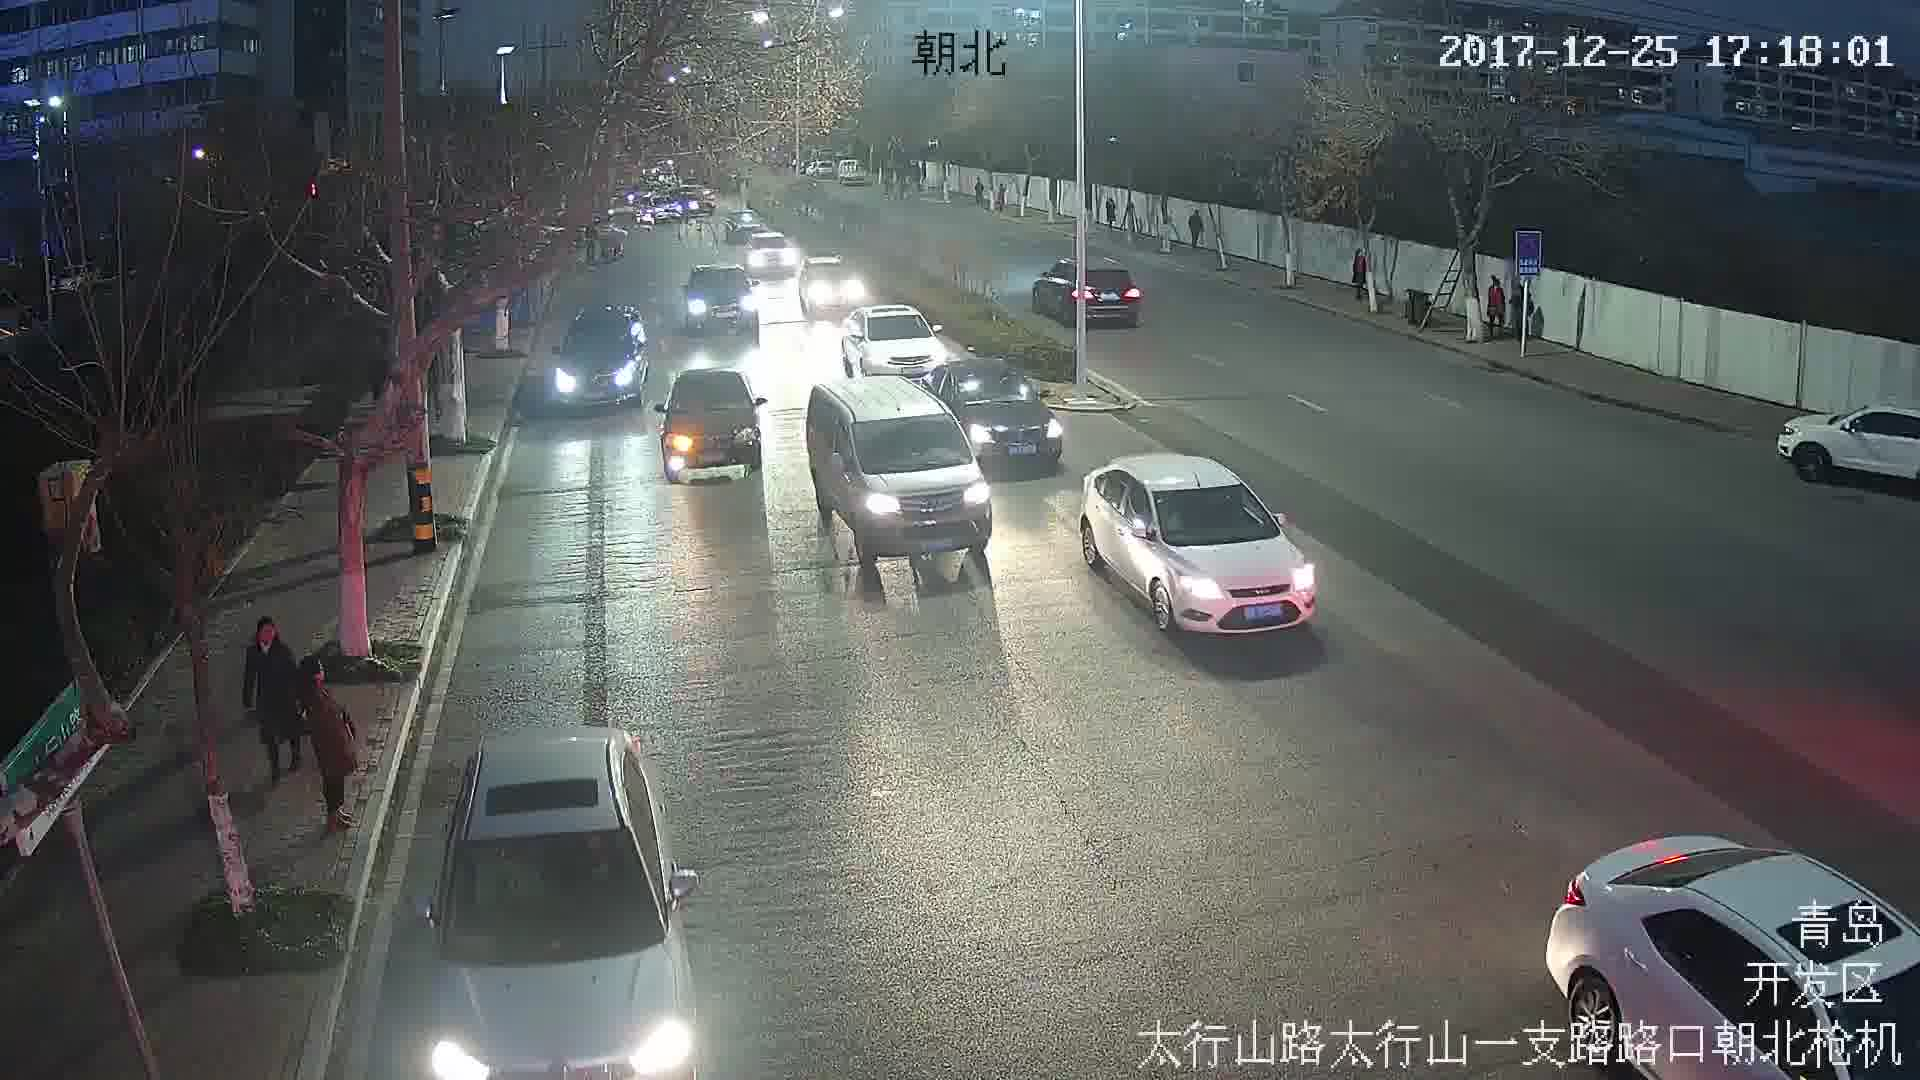car: (1075, 452, 1320, 635), (810, 382, 988, 564), (937, 362, 1067, 469), (653, 369, 767, 489), (556, 303, 645, 413), (1038, 252, 1143, 328), (848, 309, 946, 380), (685, 259, 762, 338)
person: (303, 666, 357, 835), (243, 627, 300, 780), (1488, 277, 1512, 338), (1350, 250, 1375, 303)
